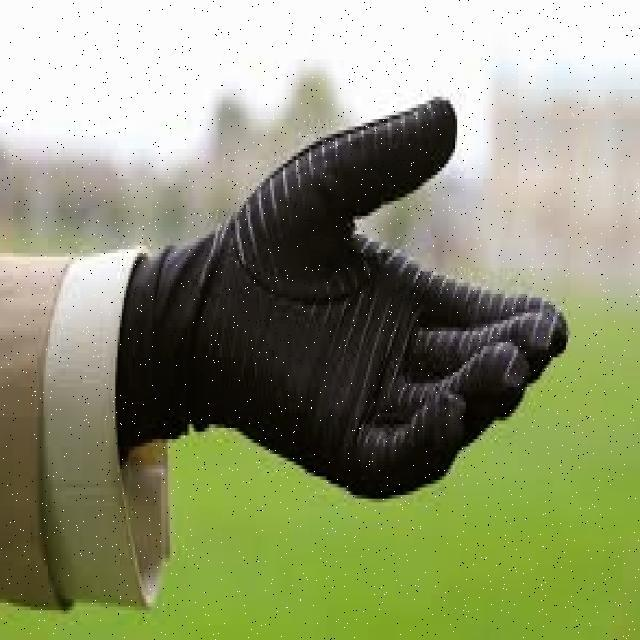apron: (200, 95, 576, 519)
